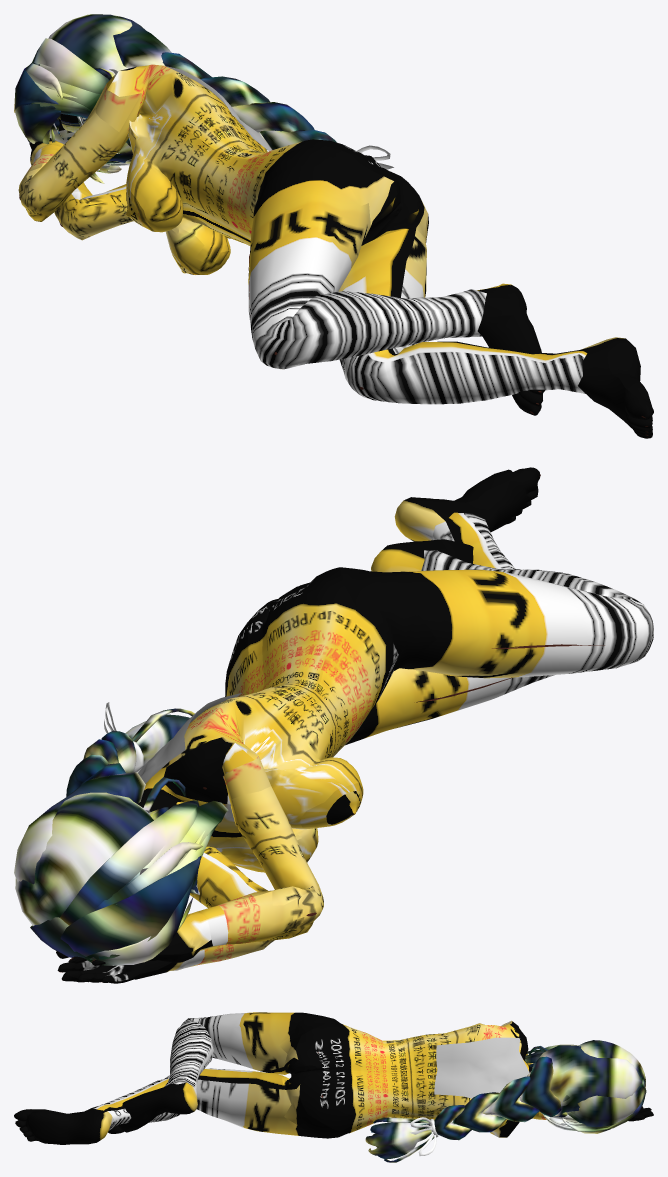
Rendered from acostadaSola.obj.
The picture shows the model from 3 angles, top to bottom: view 1: azimuth 30°, elevation 25°; view 2: azimuth 150°, elevation 25°; view 3: azimuth 270°, elevation 25°; orthographic projection. The views are drawn at different scales.
Parts seen in each view (by area): view 1: ElenaCiv28_mesh_ElenaCiv28.001; view 2: ElenaCiv28_mesh_ElenaCiv28.001; view 3: ElenaCiv28_mesh_ElenaCiv28.001.
Boxes of the visible parts, bbox=[...] form: ElenaCiv28_mesh_ElenaCiv28.001: bbox=[14, 14, 653, 438]; ElenaCiv28_mesh_ElenaCiv28.001: bbox=[14, 467, 653, 983]; ElenaCiv28_mesh_ElenaCiv28.001: bbox=[14, 1012, 653, 1162].
Bounding box in the file's own units: 7.71 × 4.4 × 21.75.
